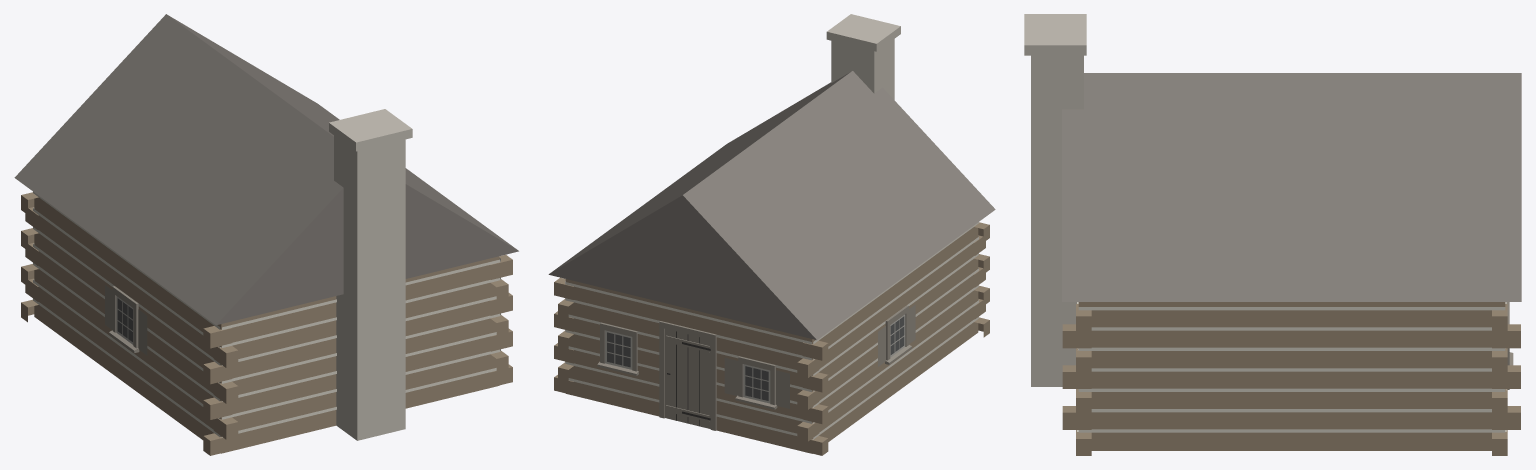
File: recon_1835_blk_south_water_wells_d1_05__inferred_1835.glb
3 views of the same model, side by side, from view 1: azimuth 30°, elevation 25°; view 2: azimuth 150°, elevation 25°; view 3: azimuth 270°, elevation 25° (orthographic). The views are drawn at different scales.
Parts seen in each view (by area): view 1: recon_1835_blk_south_water_wells_d1_05__inferred_1835; view 2: recon_1835_blk_south_water_wells_d1_05__inferred_1835; view 3: recon_1835_blk_south_water_wells_d1_05__inferred_1835.
Boxes of the visible parts, left/top/right/bottom form: recon_1835_blk_south_water_wells_d1_05__inferred_1835: left=14, top=14, right=518, bottom=455; recon_1835_blk_south_water_wells_d1_05__inferred_1835: left=548, top=14, right=995, bottom=455; recon_1835_blk_south_water_wells_d1_05__inferred_1835: left=1024, top=14, right=1521, bottom=455.
Bounding box in the file's own units: 6.03 × 5.72 × 7.51.
